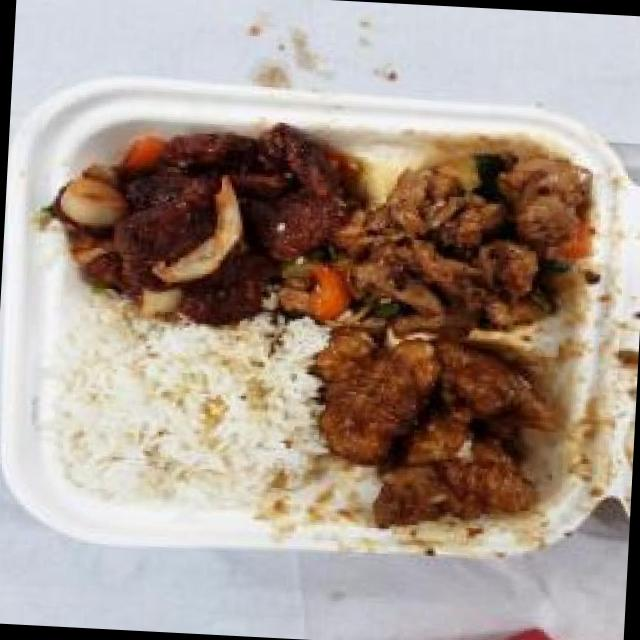Beijing Beef: (41, 106, 360, 320)
Kung Pao Chicken: (327, 125, 608, 352)
The Original Orange Chicken: (317, 328, 562, 533)
White Steamed Rice: (45, 308, 328, 516)
